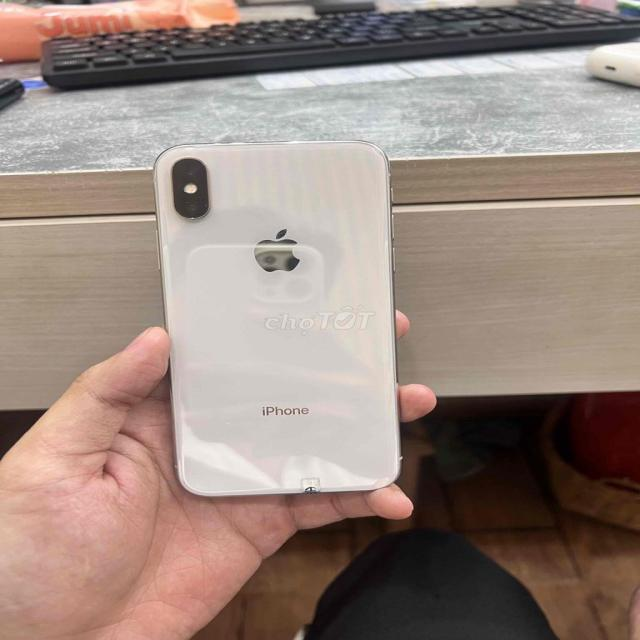gen_x_xs: (155, 141, 400, 498)
